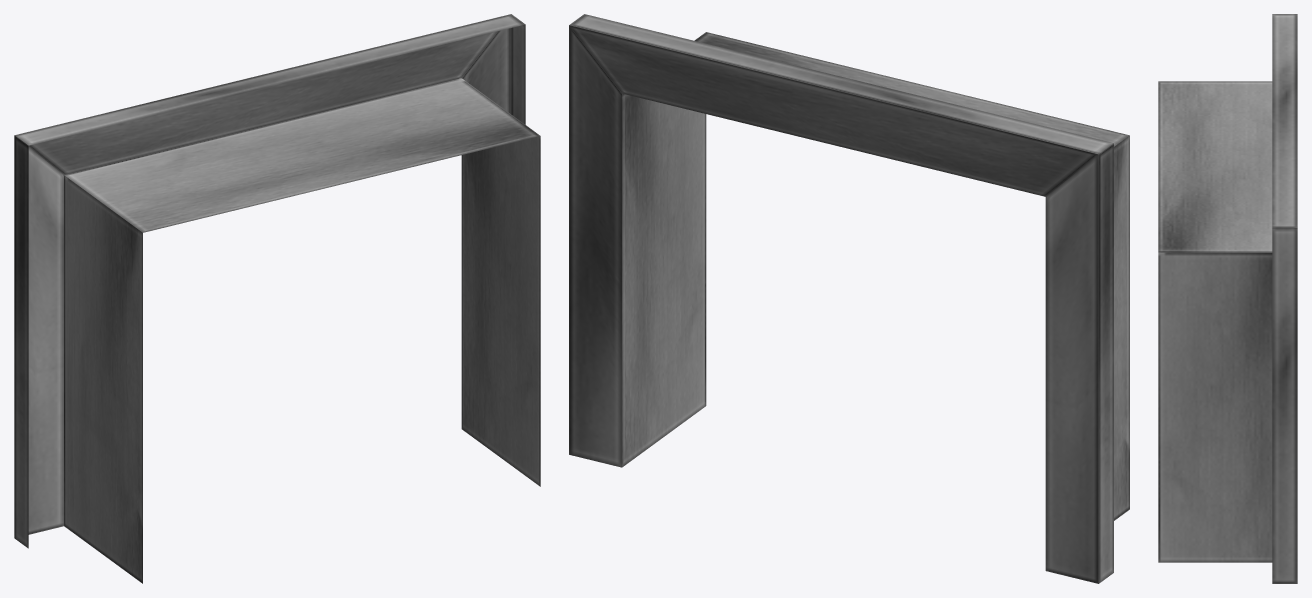
File: SM_SYD_Elevator_Frame.fbx
3 renders of one model, left to right at view 1: azimuth 30°, elevation 25°; view 2: azimuth 150°, elevation 25°; view 3: azimuth 270°, elevation 25°, orthographic. The views are drawn at different scales.
Parts seen in each view (by area): view 1: SM_SYD_Elevator_Frame; view 2: SM_SYD_Elevator_Frame; view 3: SM_SYD_Elevator_Frame.
Part boxes in pixels (left/top/right/bottom): SM_SYD_Elevator_Frame: left=14, top=14, right=540, bottom=583; SM_SYD_Elevator_Frame: left=569, top=14, right=1129, bottom=583; SM_SYD_Elevator_Frame: left=1158, top=14, right=1297, bottom=583.
Bounding box in the file's own units: 400 × 310 × 110.
